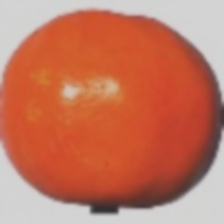tangerine: (8, 34, 204, 224)
